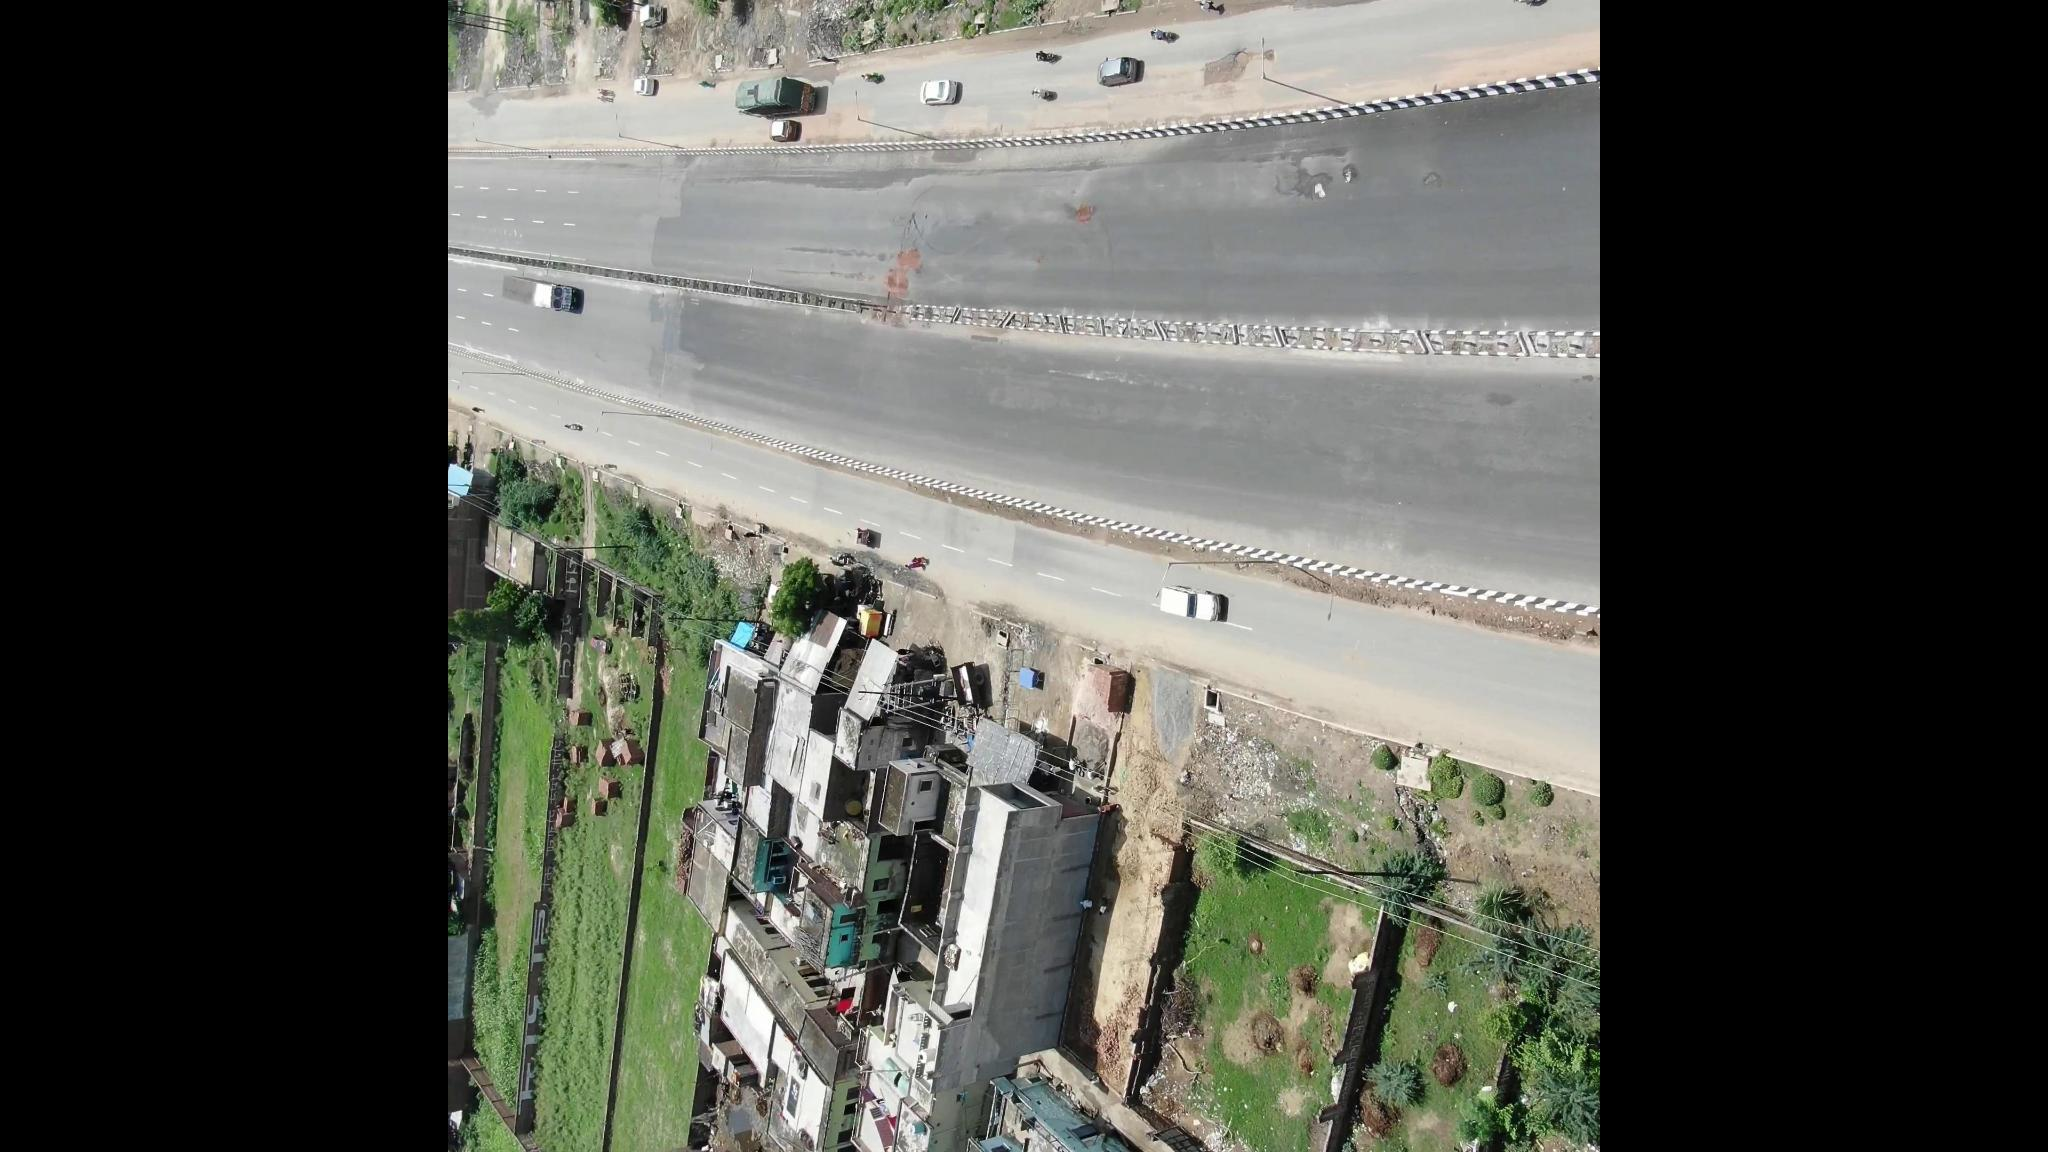Potholes: (1272, 166, 1369, 205), (1395, 151, 1452, 197)
